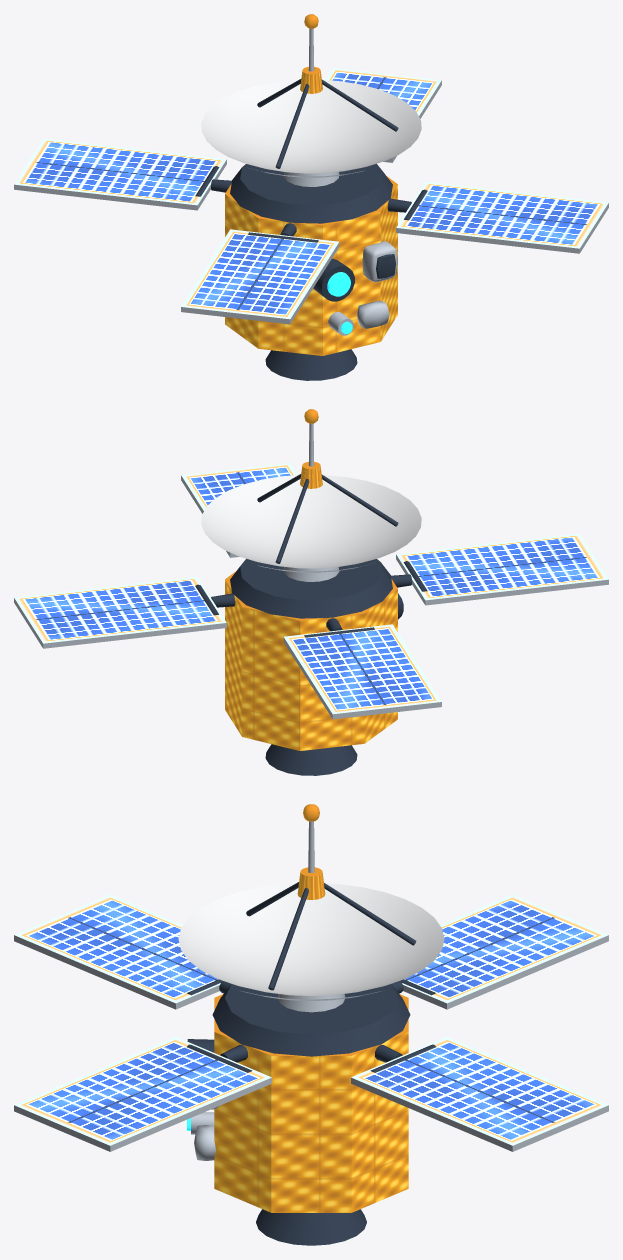
Rendered from near-shoemaker.glb.
The picture shows the model from 3 angles, top to bottom: view 1: azimuth 30°, elevation 25°; view 2: azimuth 150°, elevation 25°; view 3: azimuth 270°, elevation 25°; orthographic projection. The views are drawn at different scales.
Visible parts, largest first — view 1: SolarWings, Bus, HighGainDish; view 2: SolarWings, Bus, HighGainDish; view 3: SolarWings, Bus, HighGainDish.
Boxes of the visible parts, left/top/right/bottom form: SolarWings: left=14, top=68, right=608, bottom=324; Bus: left=225, top=163, right=397, bottom=380; HighGainDish: left=201, top=14, right=421, bottom=177; SolarWings: left=14, top=463, right=608, bottom=719; Bus: left=225, top=558, right=403, bottom=775; HighGainDish: left=201, top=409, right=421, bottom=572; SolarWings: left=14, top=894, right=608, bottom=1151; Bus: left=187, top=984, right=410, bottom=1245; HighGainDish: left=178, top=804, right=444, bottom=1001.
Size of the model in its own units: 1.92 by 1.49 by 1.92.
6 materials, 2 textured.
